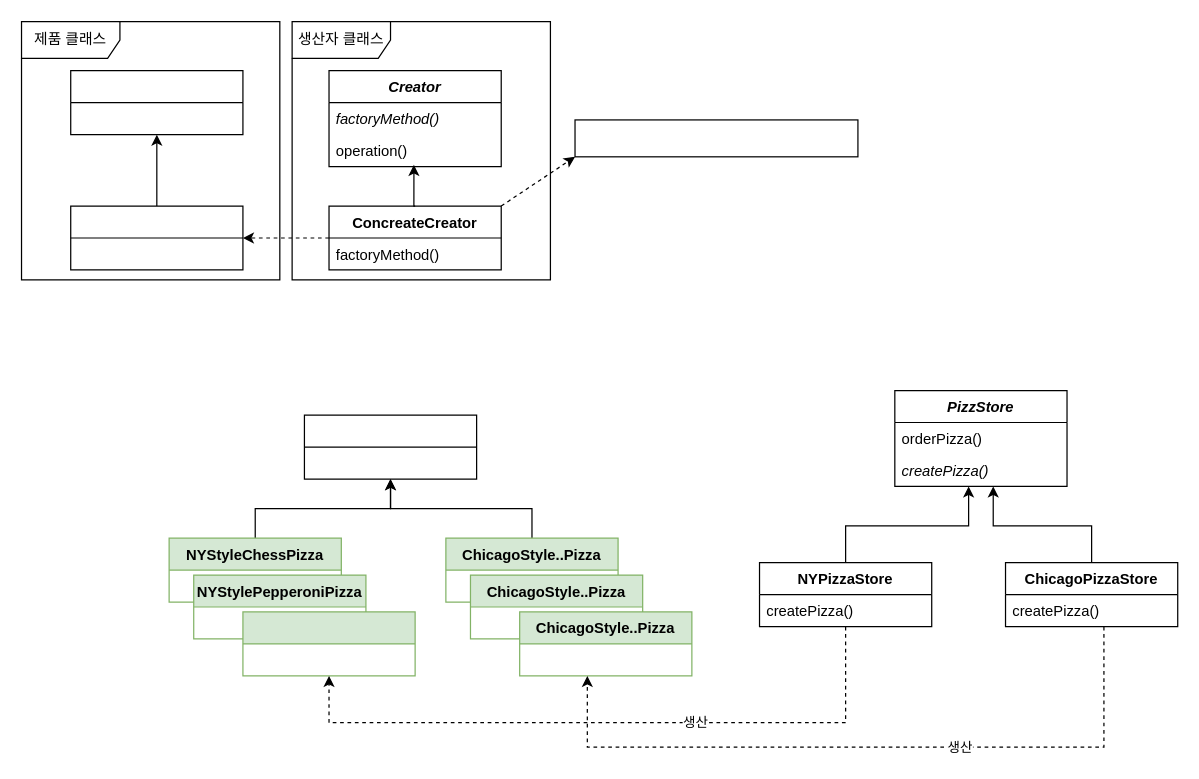
Image size: 1199x779. Some labels were removed from this diagram. Here are the shapes that lost their labels. From the top down, the centre of each, then its label:
At (156,102): "Product".
At (716,138): "실제 제품을 만드는 방법을 알고있는 클래스".
At (156,237): "ConcreteCreator".
At (390,446): "Pizza".
At (328,643): "NYStyleClamPizza".
